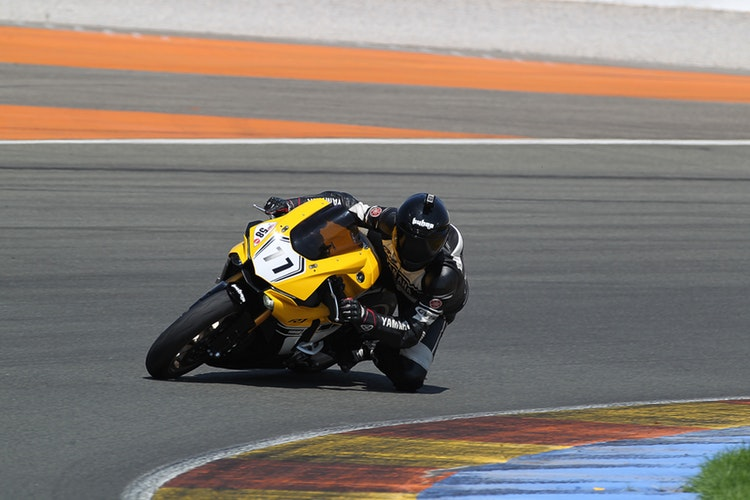helmet: (394, 187, 455, 272)
